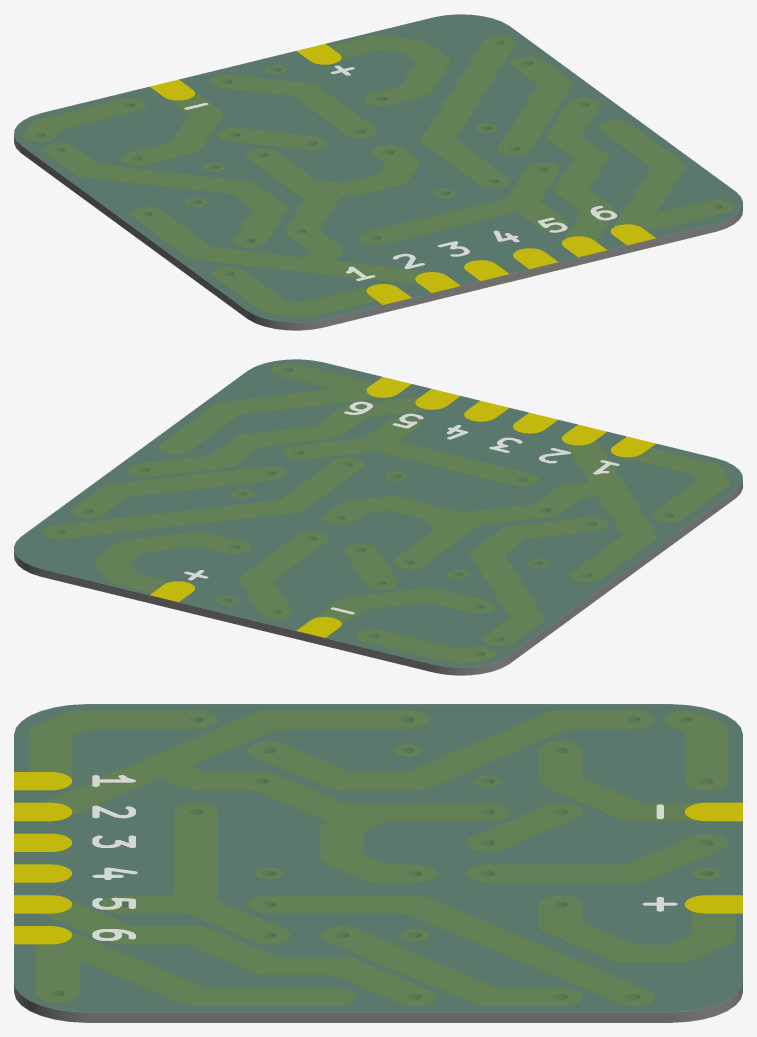
Rendered from PCB_maze.glb.
The picture shows the model from 3 angles, top to bottom: view 1: azimuth 30°, elevation 25°; view 2: azimuth 150°, elevation 25°; view 3: azimuth 270°, elevation 25°; orthographic projection. The views are drawn at different scales.
Parts seen in each view (by area): view 1: =>[0:1:1:4], =>[0:1:1:5], =>[0:1:1:2], =>[0:1:1:3]; view 2: =>[0:1:1:4], =>[0:1:1:5], =>[0:1:1:2], =>[0:1:1:3]; view 3: =>[0:1:1:4], =>[0:1:1:5], =>[0:1:1:2], =>[0:1:1:3].
Boxes of the visible parts, box(x1,y1,x2,y2) form: =>[0:1:1:4]: box(14, 14, 742, 330); =>[0:1:1:5]: box(14, 15, 742, 330); =>[0:1:1:2]: box(24, 36, 733, 316); =>[0:1:1:3]: box(184, 65, 616, 280); =>[0:1:1:4]: box(14, 359, 742, 675); =>[0:1:1:5]: box(14, 360, 742, 675); =>[0:1:1:2]: box(44, 363, 729, 662); =>[0:1:1:3]: box(184, 401, 619, 614); =>[0:1:1:4]: box(14, 704, 742, 1022); =>[0:1:1:5]: box(14, 705, 742, 1022); =>[0:1:1:2]: box(14, 711, 742, 1005); =>[0:1:1:3]: box(92, 775, 677, 940).
Size of the model in its own units: 0.1 by 0.00166 by 0.1.
